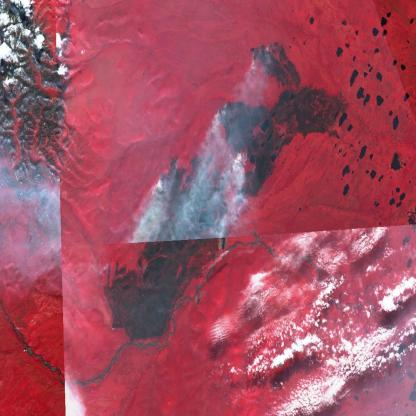fire: (146, 154, 186, 212), (228, 148, 262, 214), (211, 93, 241, 130)
